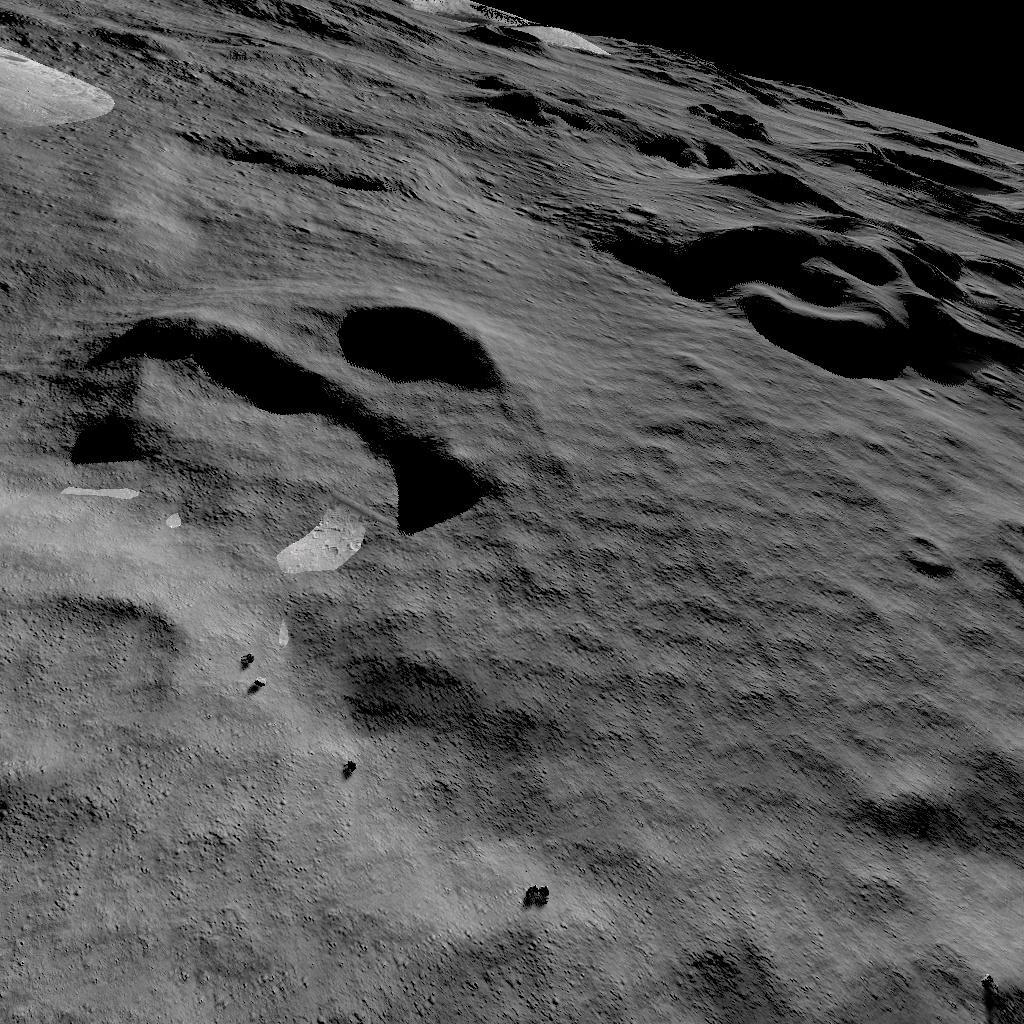Boulders: (0, 20, 129, 156)
Crater: (601, 76, 1024, 388), (86, 273, 513, 530), (0, 576, 205, 822), (899, 518, 961, 584)
Plan surface: (561, 410, 885, 1024), (1, 836, 511, 1024)
